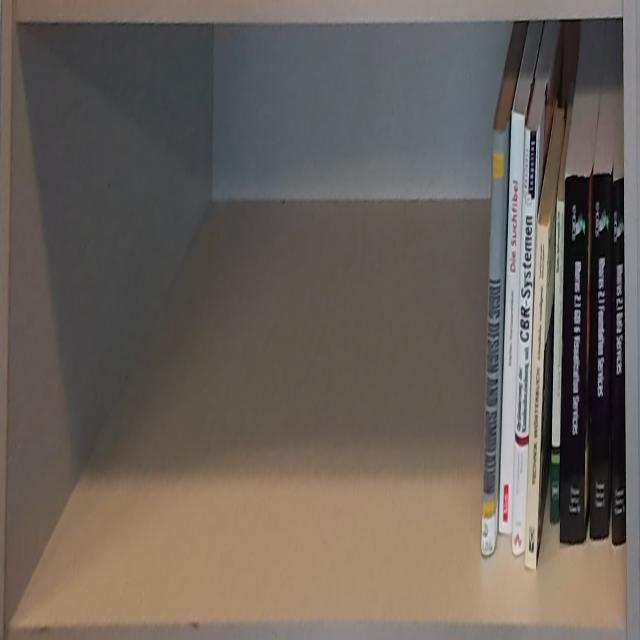Book Spine: (498, 109, 525, 537), (482, 126, 508, 554), (560, 176, 588, 545), (513, 124, 536, 555), (525, 223, 549, 570), (590, 173, 612, 539), (548, 199, 564, 522), (612, 178, 626, 546)
